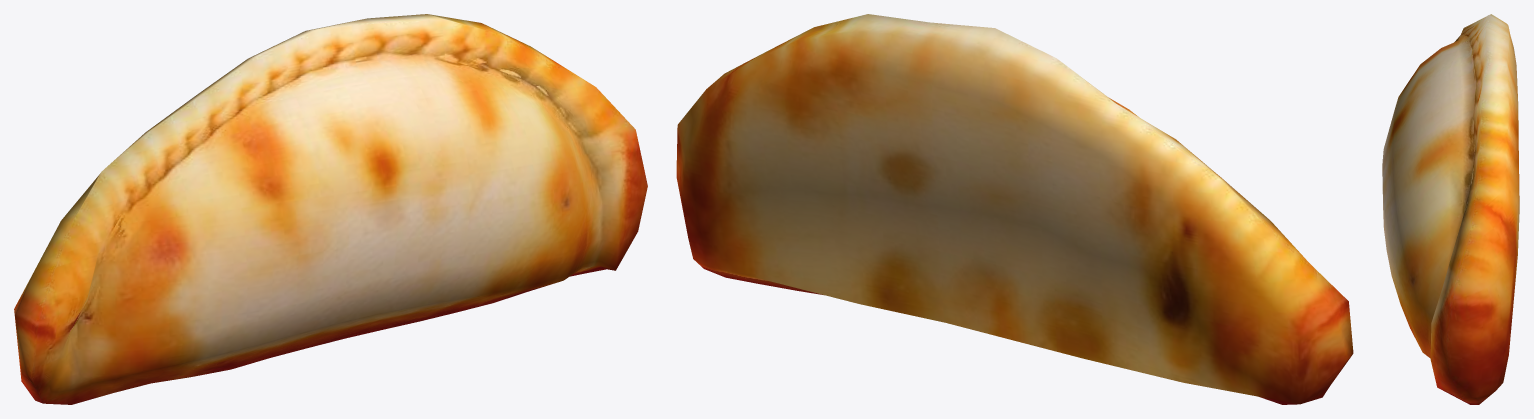
The model's file is item.food.empanada.glb.
3 renders of one model, left to right at view 1: azimuth 30°, elevation 25°; view 2: azimuth 150°, elevation 25°; view 3: azimuth 270°, elevation 25°, orthographic. The views are drawn at different scales.
Parts seen in each view (by area): view 1: Low_Empanada; view 2: Low_Empanada; view 3: Low_Empanada.
Part boxes in pixels (x1,y1,x2,y2): Low_Empanada: (14, 14, 647, 404); Low_Empanada: (676, 14, 1353, 404); Low_Empanada: (1382, 14, 1519, 404).
Size of the model in its own units: 1.2 by 0.5548 by 0.2663.
Materials: 1 (1 with a texture image).
